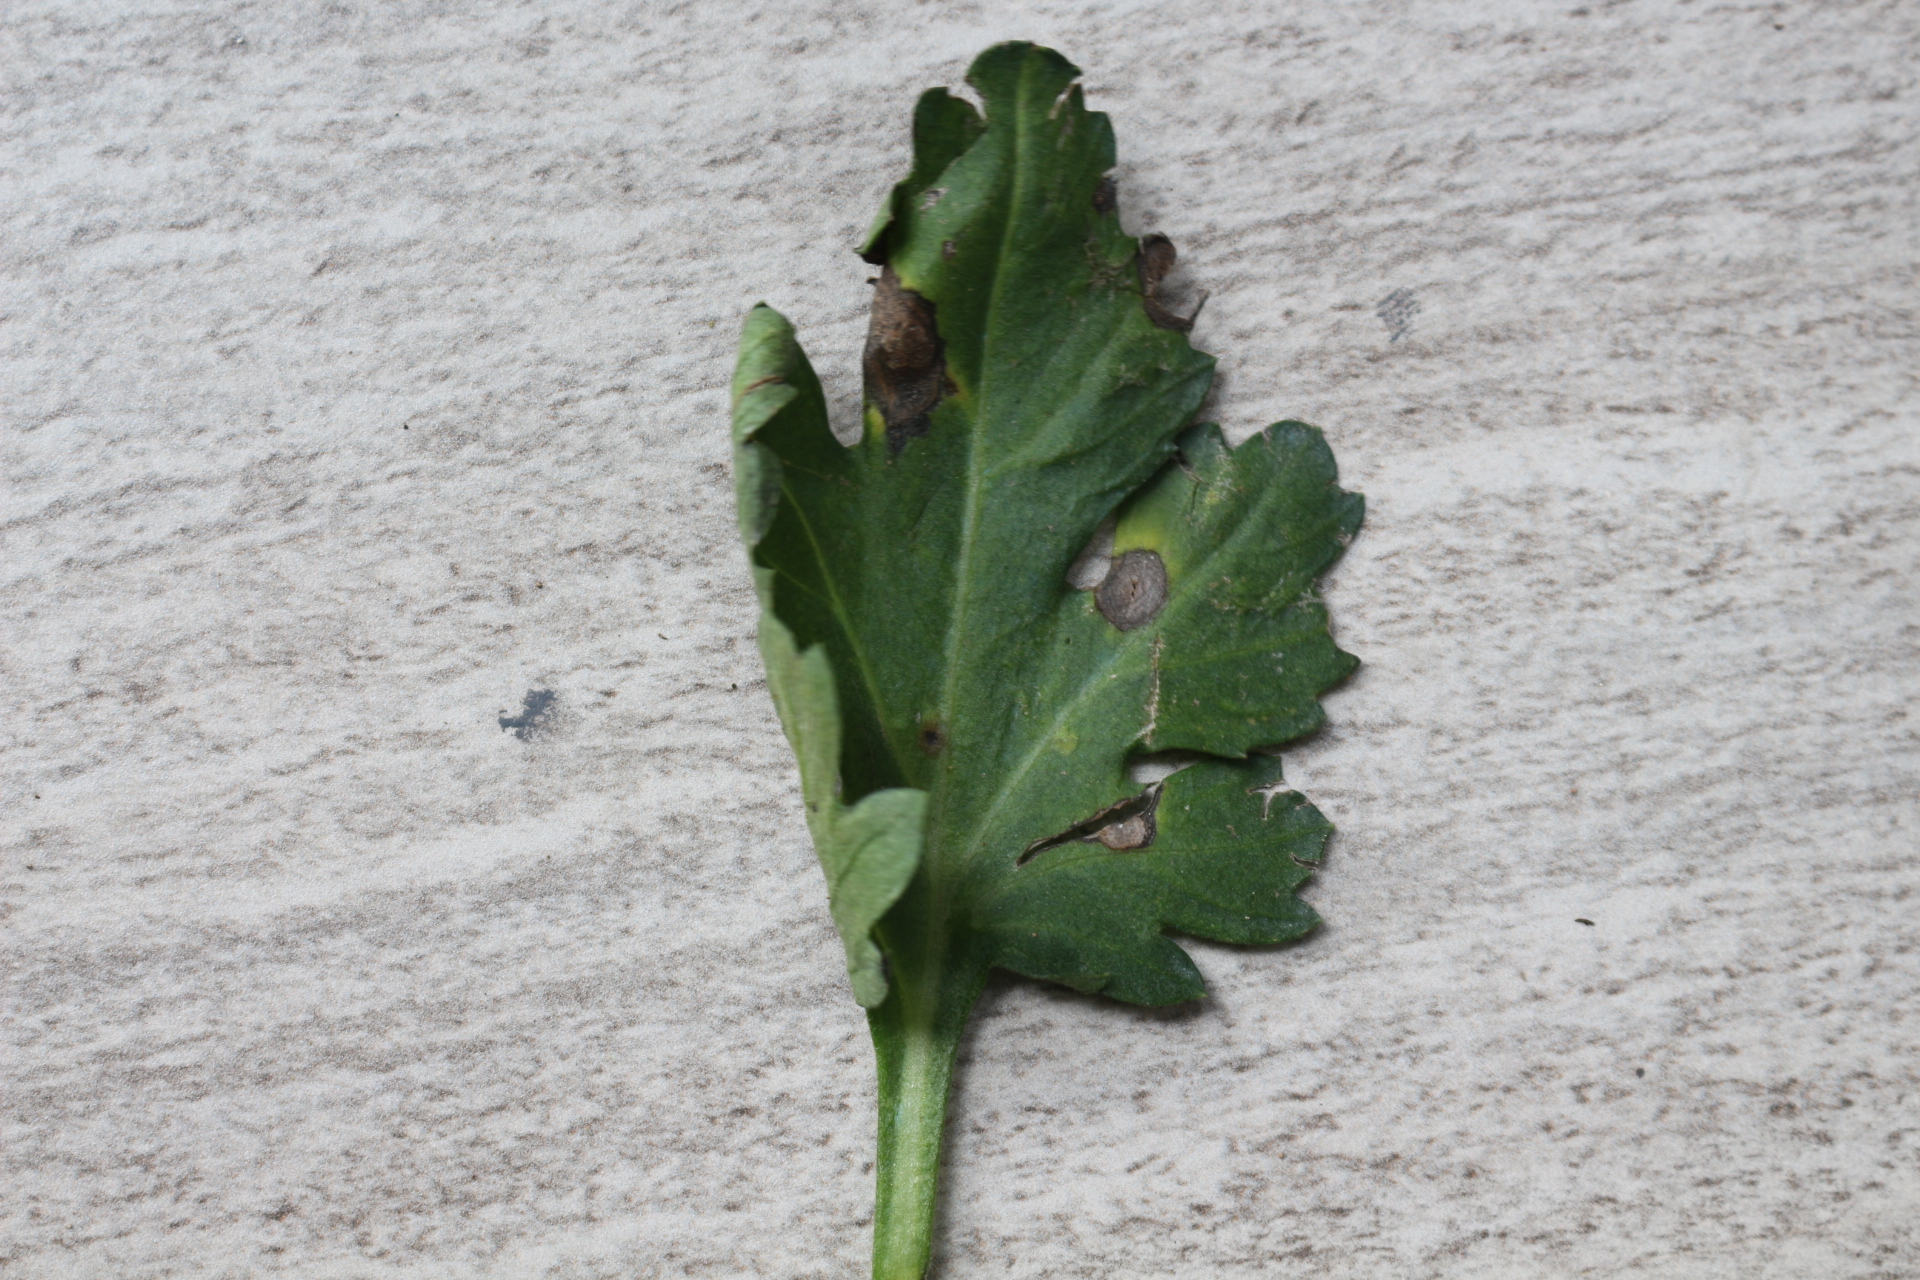namden: (1089, 544, 1174, 636)
